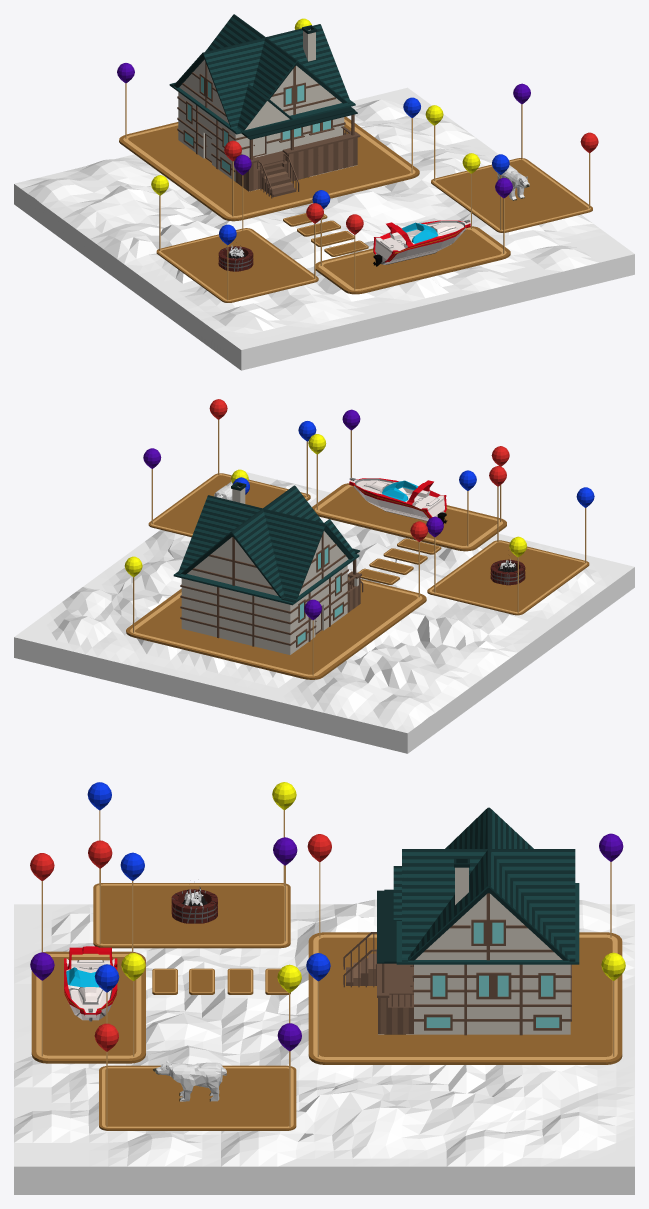
The picture shows the model from 3 angles, top to bottom: view 1: azimuth 30°, elevation 25°; view 2: azimuth 150°, elevation 25°; view 3: azimuth 270°, elevation 25°; orthographic projection. The views are drawn at different scales.
Parts seen in each view (by area): view 1: Cube.013, Cube.793, VEHICLES_BOAT, OBJRANDOM_CAMPFIRE, ANIMAL_OSO_POLAR; view 2: Cube.013, Cube.793, VEHICLES_BOAT, OBJRANDOM_CAMPFIRE; view 3: Cube.013, Cube.793, VEHICLES_BOAT, ANIMAL_OSO_POLAR, OBJRANDOM_CAMPFIRE.
Part boxes in pixels (x1,y1,x2,y2): Cube.013: (14, 18, 634, 370); Cube.793: (169, 14, 360, 198); VEHICLES_BOAT: (373, 219, 470, 266); OBJRANDOM_CAMPFIRE: (218, 244, 253, 271); ANIMAL_OSO_POLAR: (497, 165, 529, 200); Cube.013: (14, 399, 634, 753); Cube.793: (173, 482, 363, 654); VEHICLES_BOAT: (349, 477, 447, 523); OBJRANDOM_CAMPFIRE: (490, 559, 525, 585); Cube.013: (14, 782, 634, 1194); Cube.793: (343, 807, 579, 1035); VEHICLES_BOAT: (64, 946, 117, 1021); ANIMAL_OSO_POLAR: (153, 1060, 226, 1101); OBJRANDOM_CAMPFIRE: (171, 887, 217, 923).
Size of the model in its own units: 4000 by 1688 by 4000.
31 materials, 2 textured.
